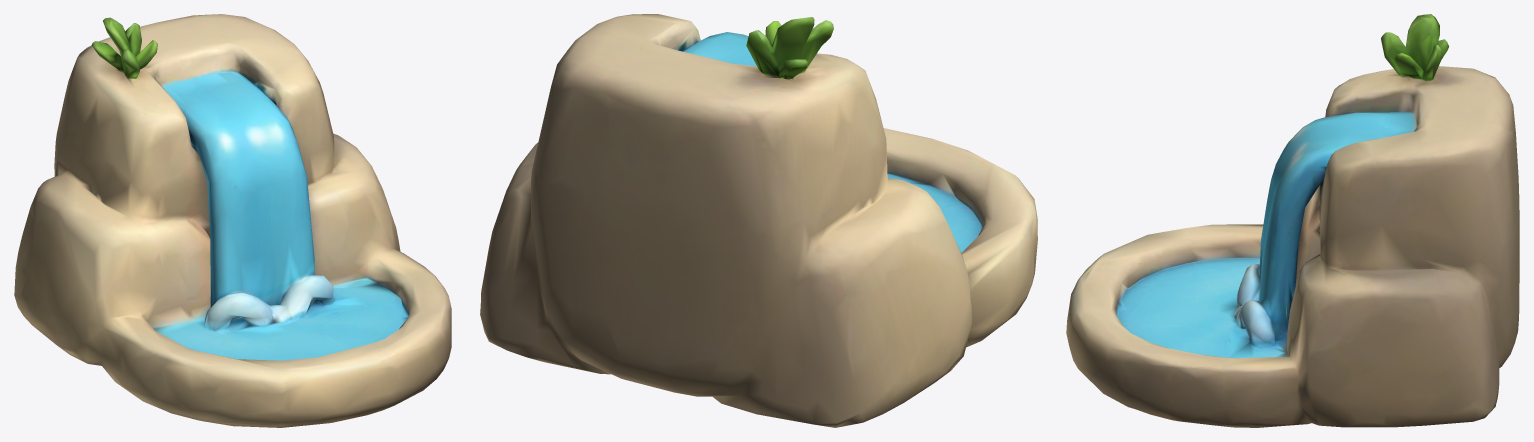
Rendered from waterfall-rock.glb.
The picture shows the model from 3 angles, left to right: view 1: azimuth 30°, elevation 25°; view 2: azimuth 150°, elevation 25°; view 3: azimuth 270°, elevation 25°; orthographic projection. The views are drawn at different scales.
Parts seen in each view (by area): view 1: tripo_node_d0f47431-c5b0-48d3-9cc0-943da1fec1f6; view 2: tripo_node_d0f47431-c5b0-48d3-9cc0-943da1fec1f6; view 3: tripo_node_d0f47431-c5b0-48d3-9cc0-943da1fec1f6.
Part boxes in pixels (x1,y1,x2,y2): tripo_node_d0f47431-c5b0-48d3-9cc0-943da1fec1f6: (14,14,451,427); tripo_node_d0f47431-c5b0-48d3-9cc0-943da1fec1f6: (480,14,1037,427); tripo_node_d0f47431-c5b0-48d3-9cc0-943da1fec1f6: (1066,14,1519,427).
Bounding box in the file's own units: 0.8394 × 0.7412 × 1.
1 material, 1 textured.
